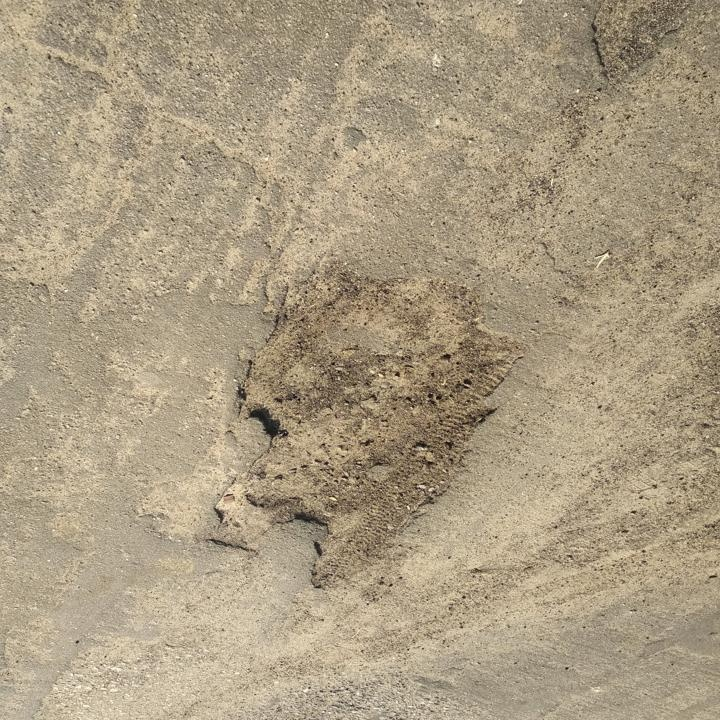pothole: (201, 264, 526, 597), (578, 0, 700, 88)
